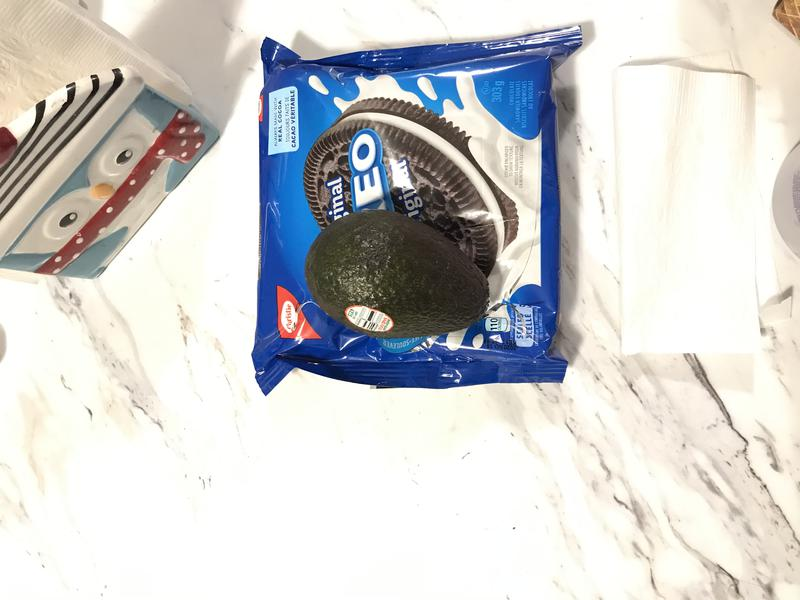avacado: (300, 210, 497, 341)
